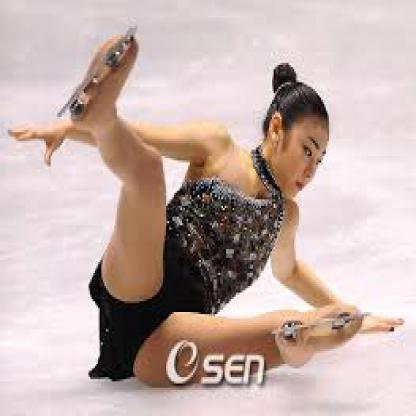Fall_Down: (9, 23, 409, 397)
